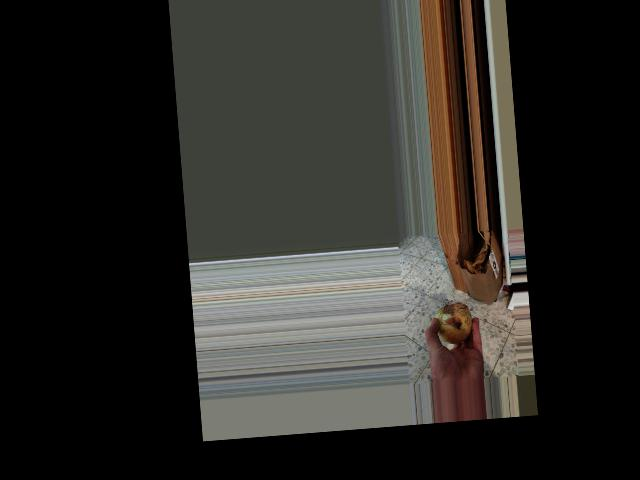onion: (430, 300, 473, 350)
